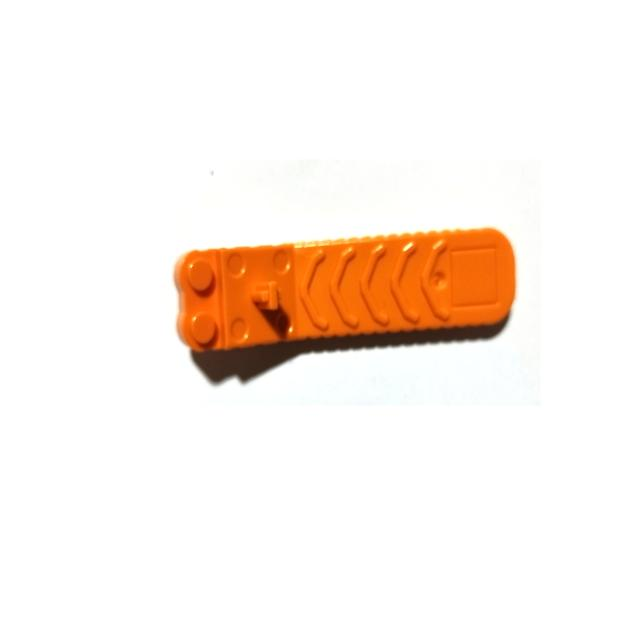Orange_Large: (173, 227, 515, 350)
